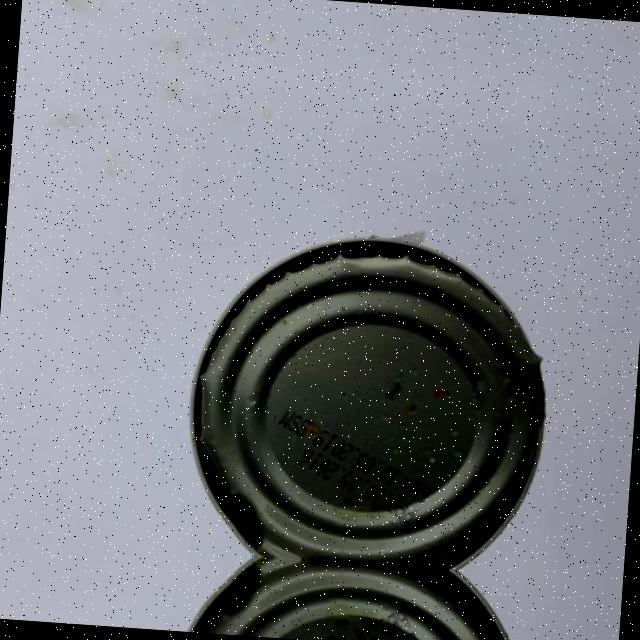Metal: (126, 188, 602, 578), (120, 546, 577, 640)
